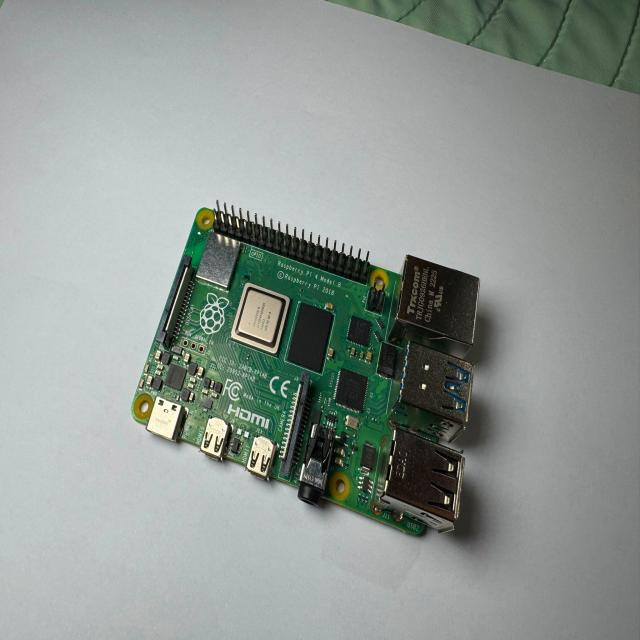CPU: (232, 284, 290, 356)
Ethernet: (397, 255, 481, 358)
GPIO: (212, 205, 374, 284)
RAM: (288, 304, 334, 375)
Raspberry: (130, 208, 480, 539)
micro-hdmi: (202, 417, 232, 464), (246, 436, 273, 481)
